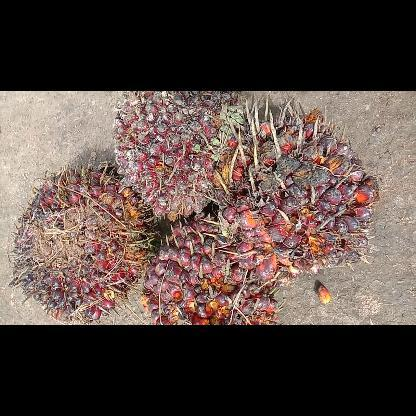Kurang masak: (10, 158, 154, 324), (108, 90, 258, 224)
TBS masak: (212, 93, 382, 277), (141, 206, 287, 324)
